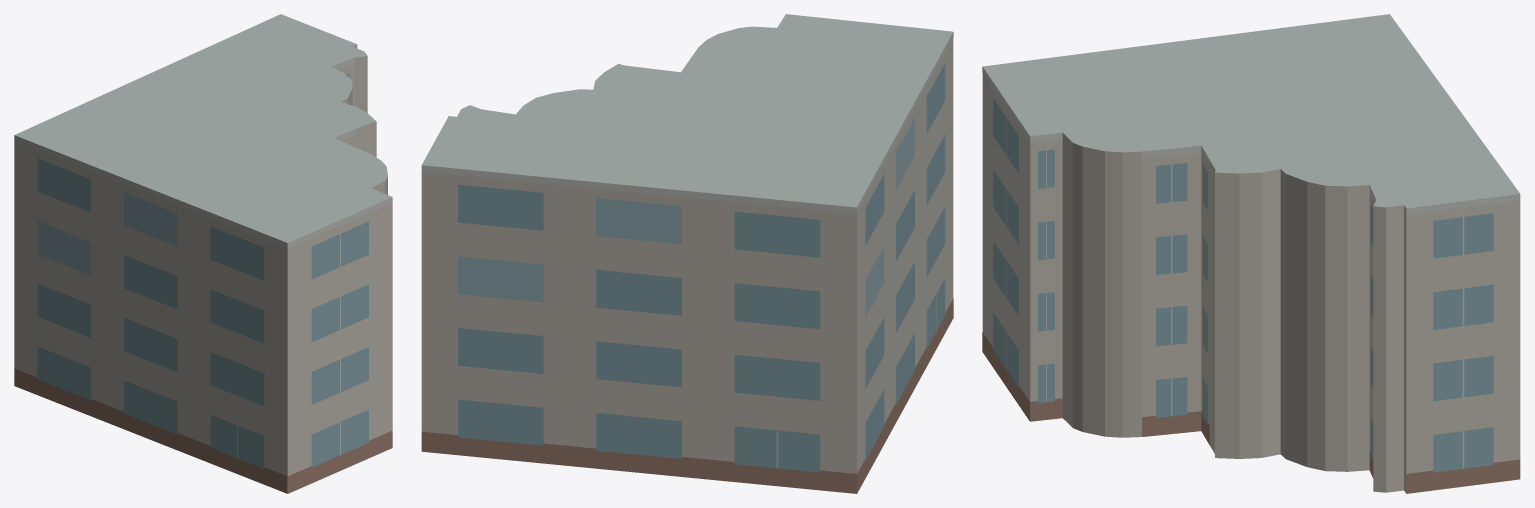
File: survey-upis-32676031.glb
3 renders of one model, left to right at view 1: azimuth 30°, elevation 25°; view 2: azimuth 150°, elevation 25°; view 3: azimuth 270°, elevation 25°, orthographic. The views are drawn at different scales.
Visible parts, largest first — view 1: survey-upis-32676031.tmp; view 2: survey-upis-32676031.tmp; view 3: survey-upis-32676031.tmp.
Boxes of the visible parts, x1,y1,x2,y2 form: survey-upis-32676031.tmp: [14, 14, 392, 493]; survey-upis-32676031.tmp: [421, 14, 953, 493]; survey-upis-32676031.tmp: [982, 14, 1520, 493].
Size of the model in its own units: 15.35 by 10.5 by 17.94.
